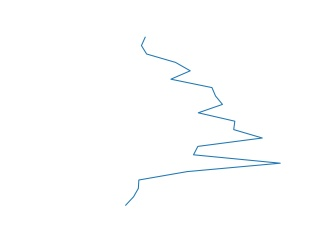floodSwamp: (121, 34, 282, 207)
